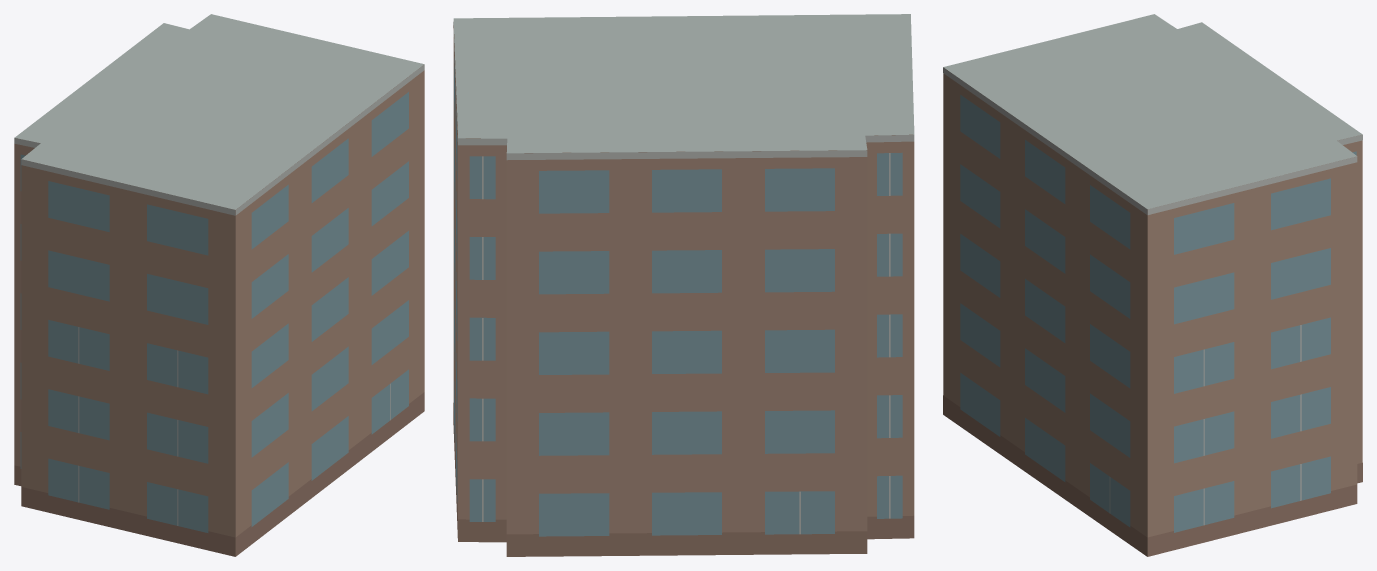
The model's file is survey-upis-32721124.glb.
The picture shows the model from 3 angles, left to right: view 1: azimuth 30°, elevation 25°; view 2: azimuth 150°, elevation 25°; view 3: azimuth 270°, elevation 25°; orthographic projection. The views are drawn at different scales.
Visible parts, largest first — view 1: survey-upis-32721124.tmp; view 2: survey-upis-32721124.tmp; view 3: survey-upis-32721124.tmp.
Boxes of the visible parts, x1=… form: survey-upis-32721124.tmp: x1=14, y1=14, x2=424, y2=556; survey-upis-32721124.tmp: x1=453, y1=14, x2=914, y2=556; survey-upis-32721124.tmp: x1=943, y1=14, x2=1362, y2=556.
Size of the model in its own units: 17.25 by 14.3 by 15.66.
